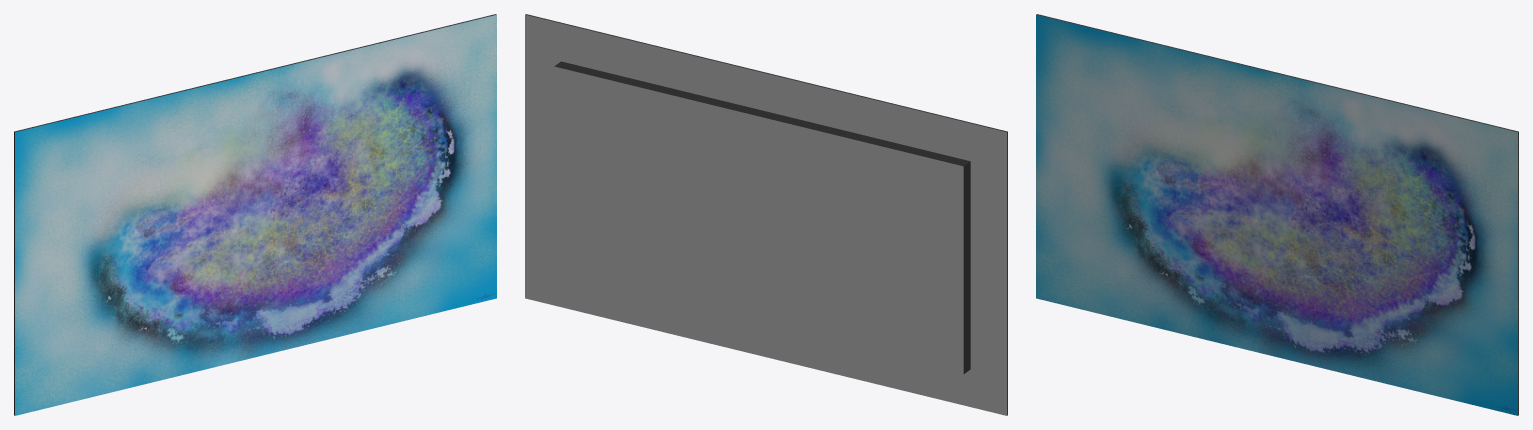
Rendered from hz009_moyen_dibond.glb.
The picture shows the model from 3 angles, left to right: view 1: azimuth 30°, elevation 25°; view 2: azimuth 150°, elevation 25°; view 3: azimuth 330°, elevation 25°; orthographic projection.
Parts seen in each view (by area): view 1: hz009_moyen_dibond; view 2: hz009_moyen_dibond; view 3: hz009_moyen_dibond.
Boxes of the visible parts, box(x1,y1,x2,y2) form: hz009_moyen_dibond: box(14, 14, 496, 415); hz009_moyen_dibond: box(525, 14, 1007, 415); hz009_moyen_dibond: box(1036, 14, 1518, 415).
Bounding box in the file's own units: 0.8 × 0.45 × 0.023.
4 materials, 1 textured.
